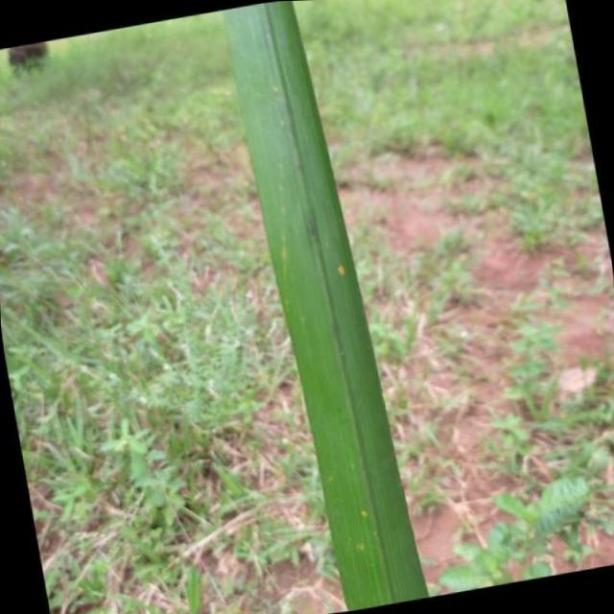Kalium: (215, 0, 433, 612)
